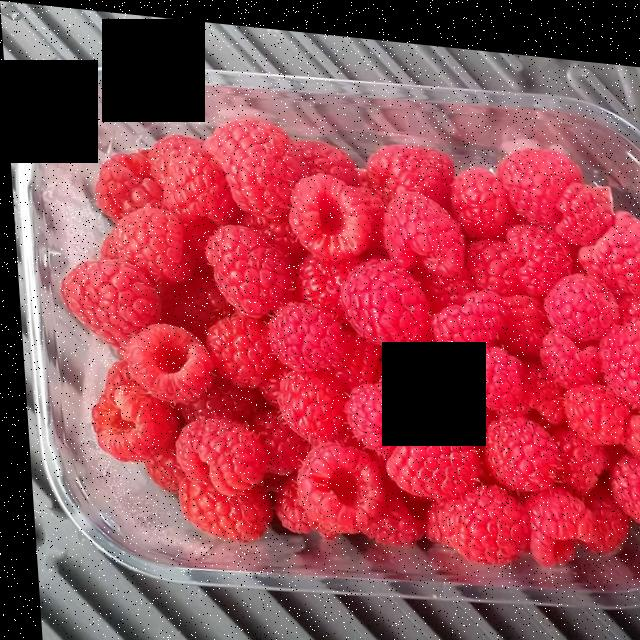raspberries: (76, 122, 637, 555)
